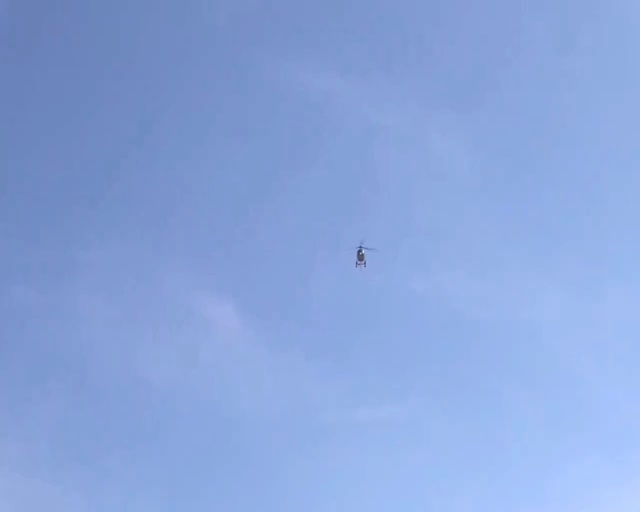HELICOPTER: (355, 240, 377, 269)
